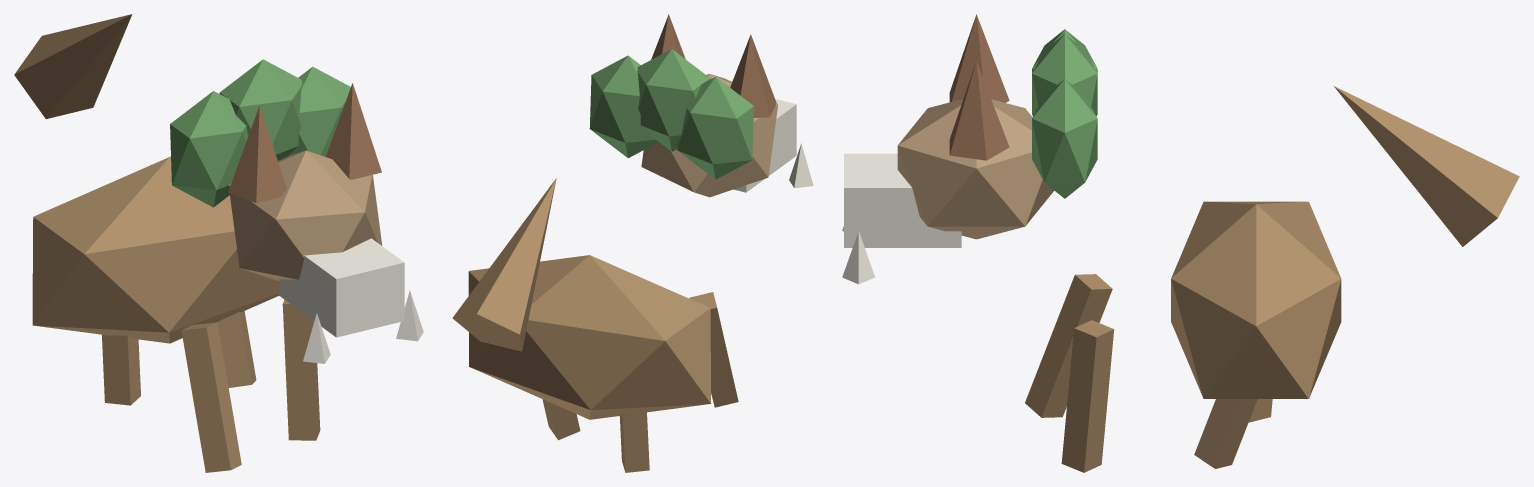
The model's file is npcpose_wolf_walk_08.glb.
3 renders of one model, left to right at view 1: azimuth 30°, elevation 25°; view 2: azimuth 150°, elevation 25°; view 3: azimuth 270°, elevation 25°, orthographic. The views are drawn at different scales.
Parts seen in each view (by area): view 1: npcpose; view 2: npcpose; view 3: npcpose.
Part boxes in pixels (x1,y1,x2,y2): npcpose: (14, 14, 423, 472); npcpose: (452, 14, 813, 472); npcpose: (842, 14, 1519, 472).
Size of the model in its own units: 0.8873 by 1.22 by 1.84.
